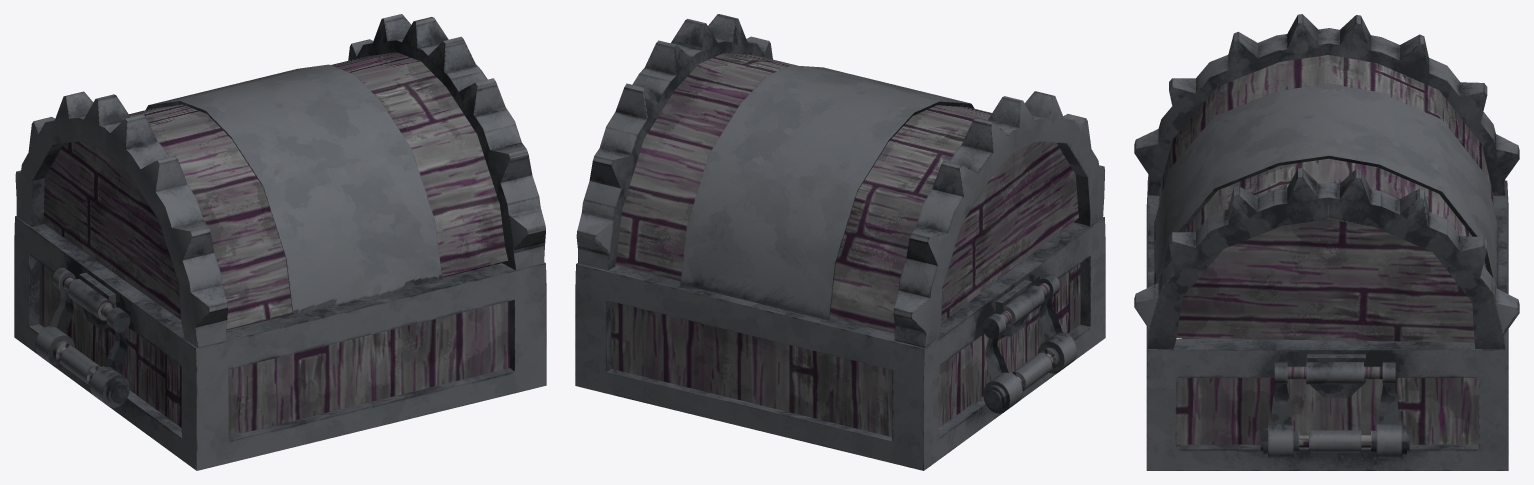
Rendered from CHEST.re.fbx.
3 renders of one model, left to right at view 1: azimuth 30°, elevation 25°; view 2: azimuth 150°, elevation 25°; view 3: azimuth 270°, elevation 25°, orthographic.
Visible parts, largest first — view 1: Cylinder.005, Cylinder.002, Cylinder.003, Cylinder.001, Cylinder.006; view 2: Cylinder.005, Cylinder.002, Cylinder.003, Cylinder.001, Cylinder.006; view 3: Cylinder.005, Cylinder.002, Cylinder.003, Cylinder.007, Cylinder.006.
Boxes of the visible parts, <box> form: Cylinder.005: <box>43,52,508,328</box>; Cylinder.002: <box>14,216,546,470</box>; Cylinder.003: <box>15,14,545,347</box>; Cylinder.001: <box>35,267,130,407</box>; Cylinder.006: <box>79,272,115,329</box>; Cylinder.005: <box>615,53,1078,333</box>; Cylinder.002: <box>575,217,1105,470</box>; Cylinder.003: <box>576,14,1104,347</box>; Cylinder.001: <box>982,274,1077,413</box>; Cylinder.006: <box>995,280,1031,336</box>; Cylinder.005: <box>1154,55,1498,342</box>; Cylinder.002: <box>1146,180,1508,470</box>; Cylinder.003: <box>1134,14,1519,349</box>; Cylinder.007: <box>1260,362,1409,458</box>; Cylinder.006: <box>1307,354,1365,397</box>.
Bounding box in the file's own units: 2.23 × 1.5 × 1.8.
1 material, 1 textured.
